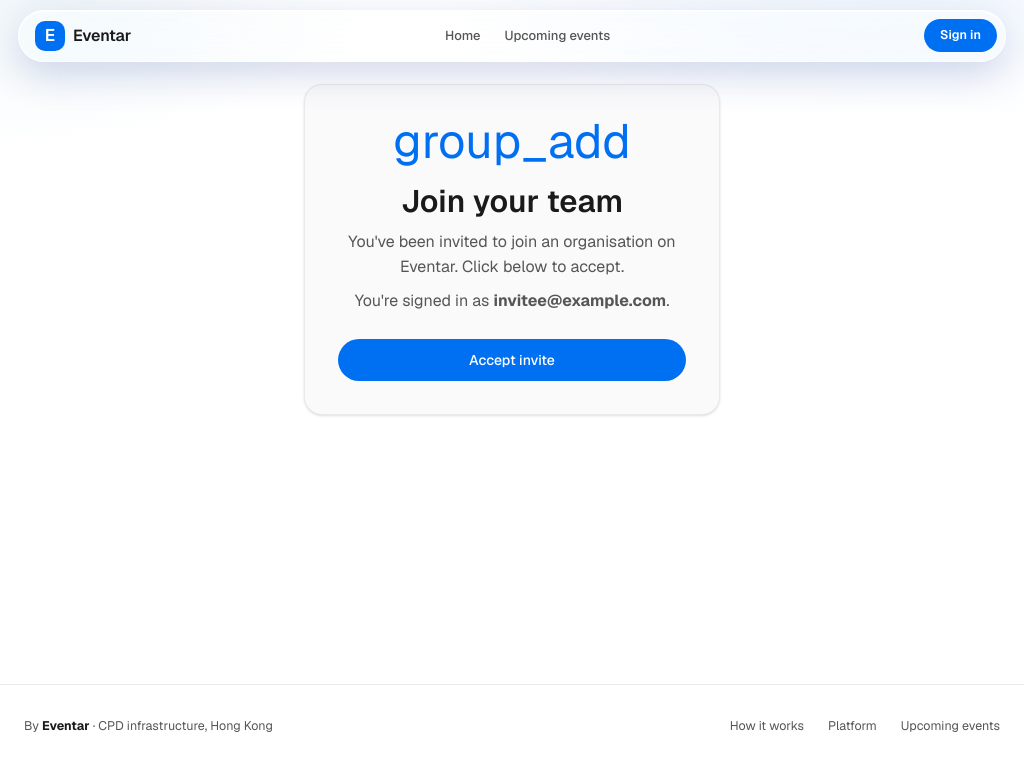
Test case: invite page — the email already has practitioner data (D3) › "Accept with this email anyway" accepts with confirmed: true
This screenshot has width=1024, height=764.
What coordinates should you click on to do the following:
click the button "Accept invite"
I would click on:
 (512, 360)
Its box is [337, 338, 687, 382].
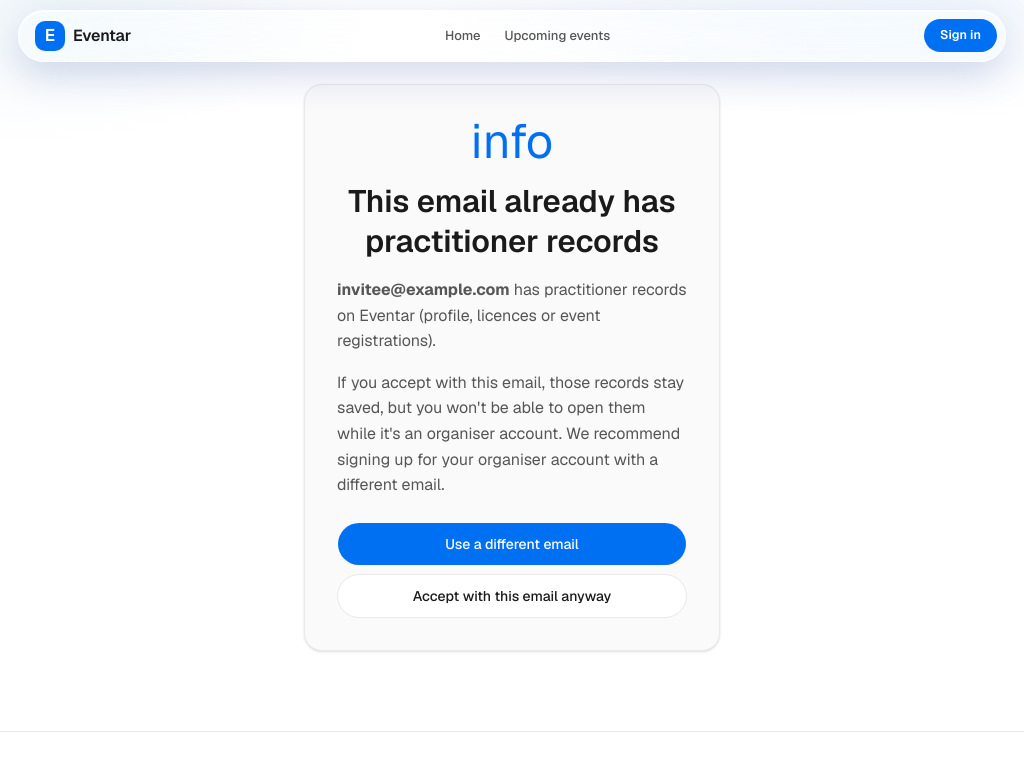
What coordinates should you click on to do the following:
click the button "Accept with this email anyway"
I would click on:
 (512, 596)
Its box is [337, 574, 687, 618].
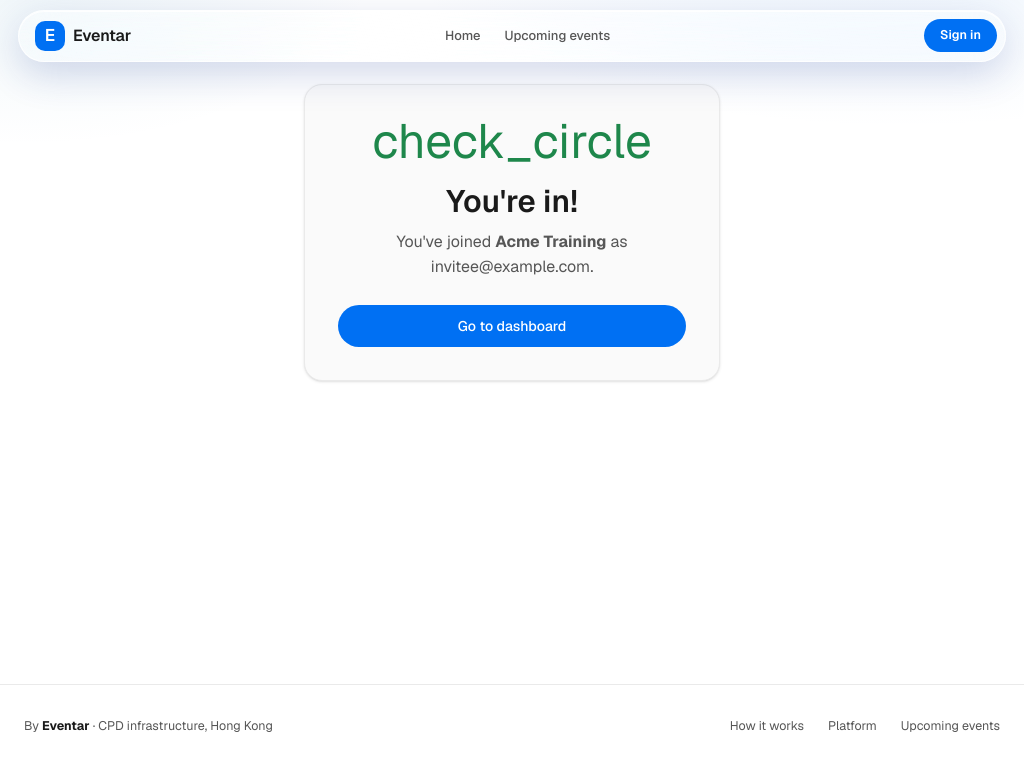
Check: the heading "You're in!" is shown, box [446, 180, 578, 220]
